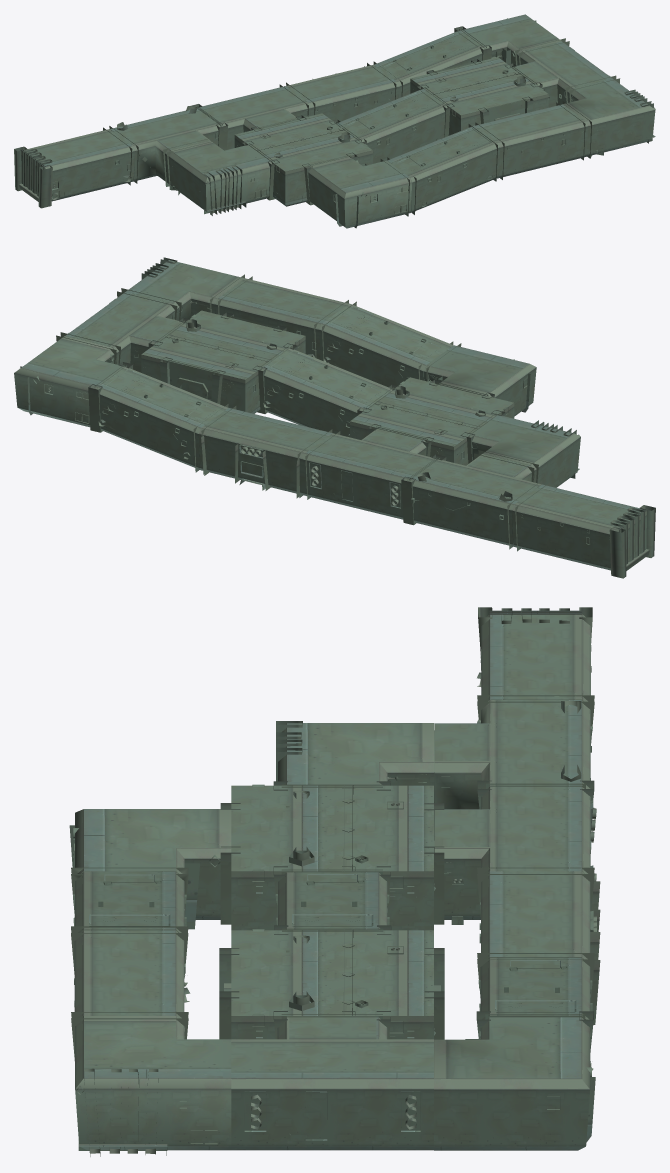
Rendered from Combined_Mesh_root_scene__3_4fde1142__zombies2_diffuse_09_d56e2e54_c1f257.obj.
3 views of the same model, one above another, from view 1: azimuth 30°, elevation 25°; view 2: azimuth 150°, elevation 25°; view 3: azimuth 270°, elevation 25° (orthographic). The views are drawn at different scales.
Size of the model in its own units: 117 by 12.76 by 52.4.
230 materials, 230 textured.
